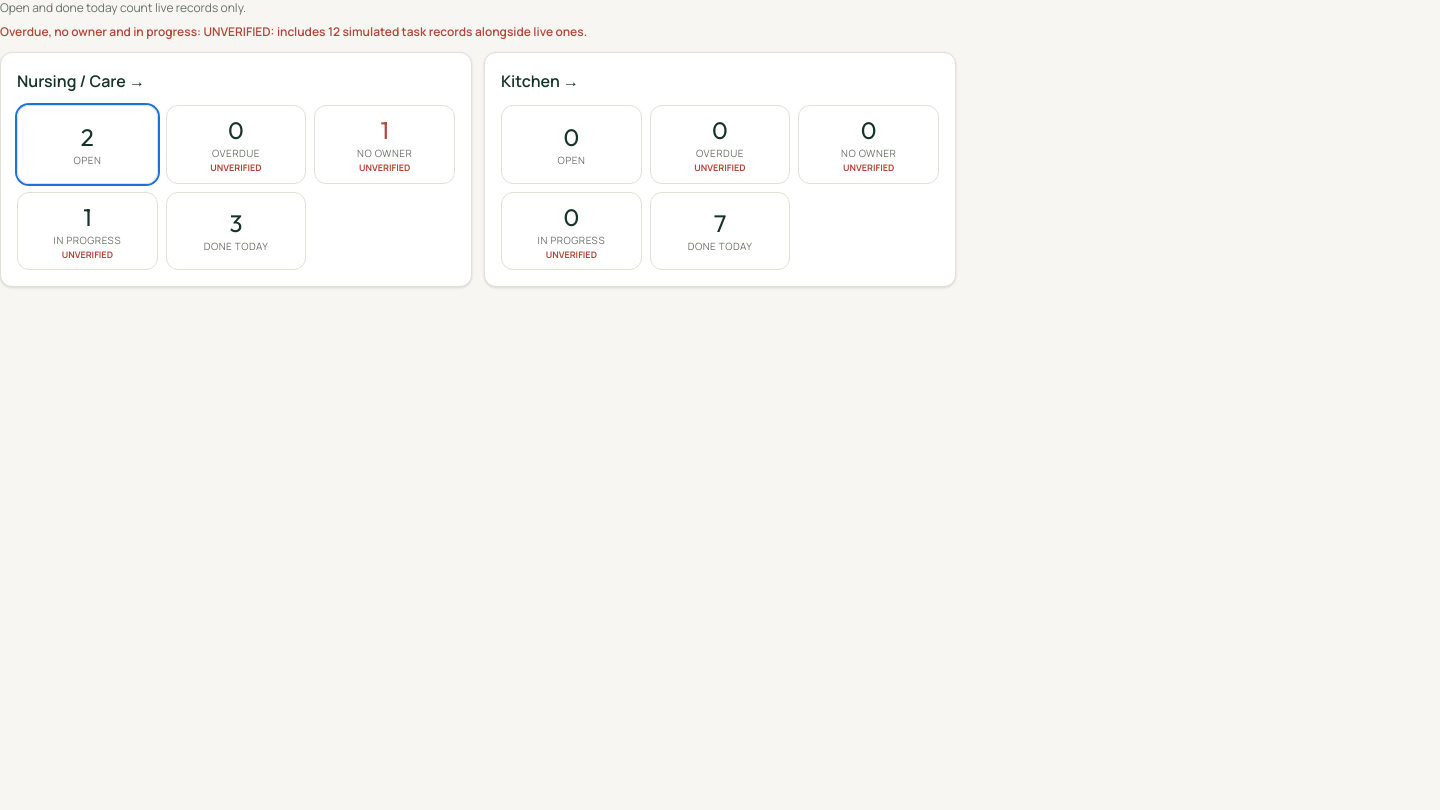
Test: ops-metric-nursing-open opens exactly the records it counts
Later steps or results of the test are not shown.
Click the button "2 open".
click(87, 144)  # box top-left (17, 105), bottom-right (158, 184)
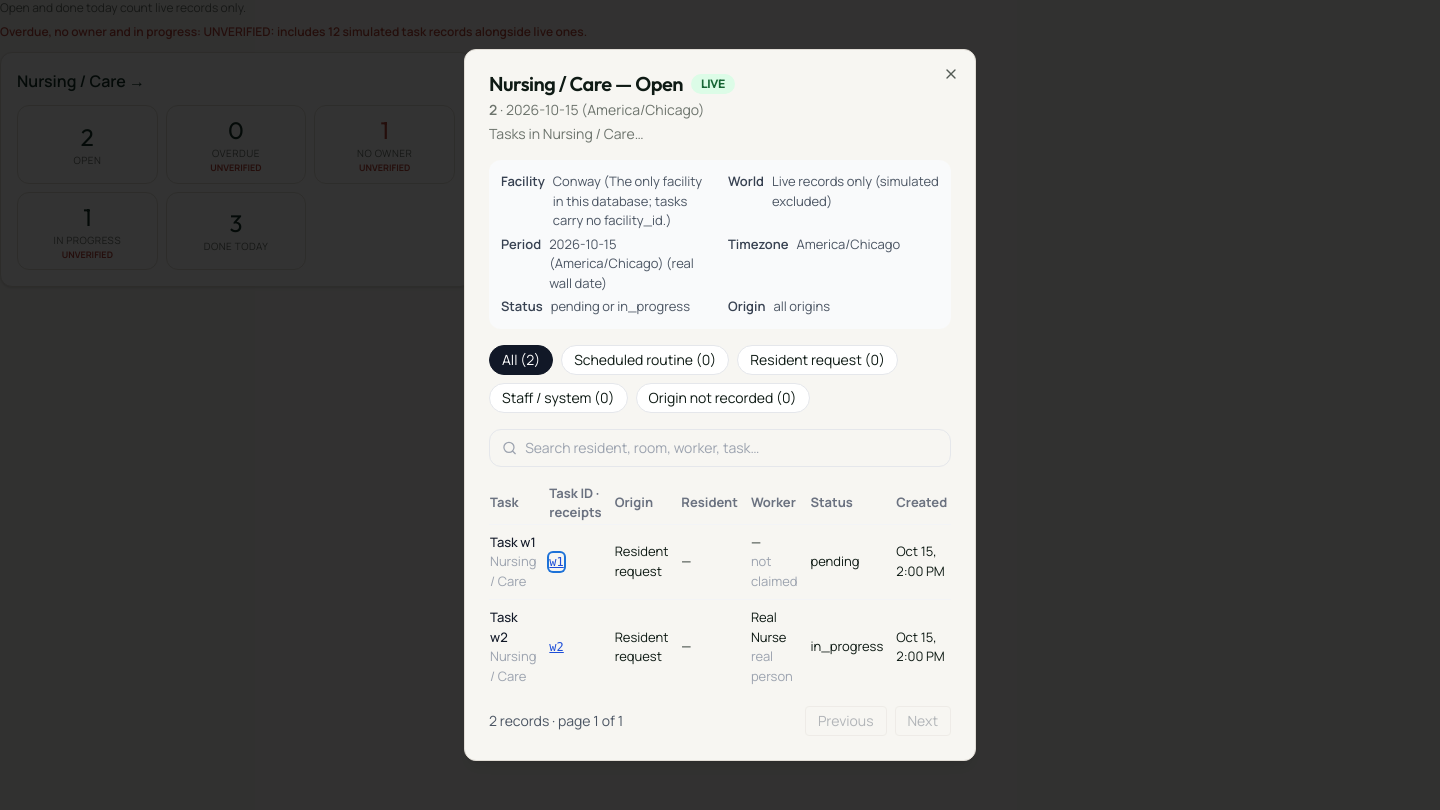
Check: the number of buttons with test id "ws-record-open" is 2, box top-left (549, 553), bottom-right (564, 571); top-left (549, 638), bottom-right (564, 656)
Check: the element with test id "ws-disclosure" shows "Conway", box top-left (553, 172), bottom-right (702, 229)
Check: the element with test id "ws-disclosure" shows "Live records only", box top-left (772, 172), bottom-right (939, 210)
